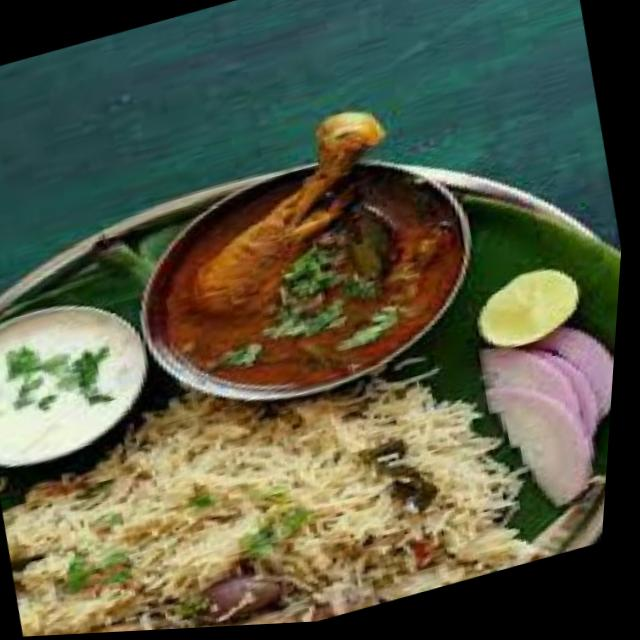CHICKEN CURRY: (161, 108, 464, 385)
CURD: (0, 308, 135, 460)
